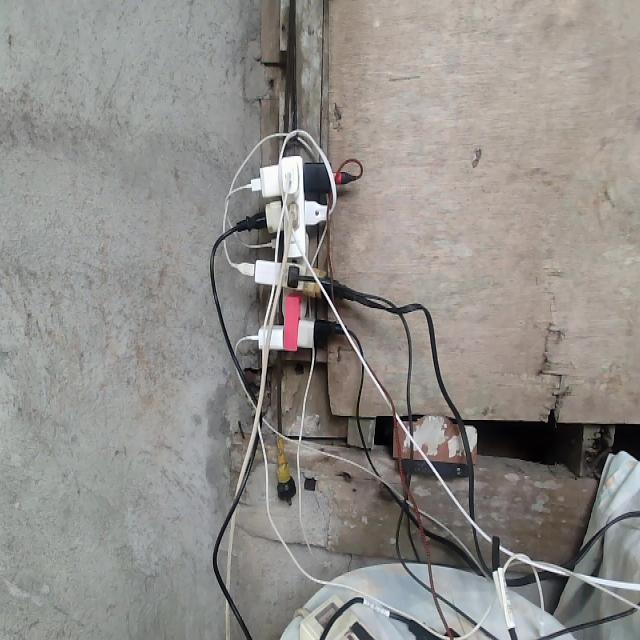-: (240, 149, 351, 359)
